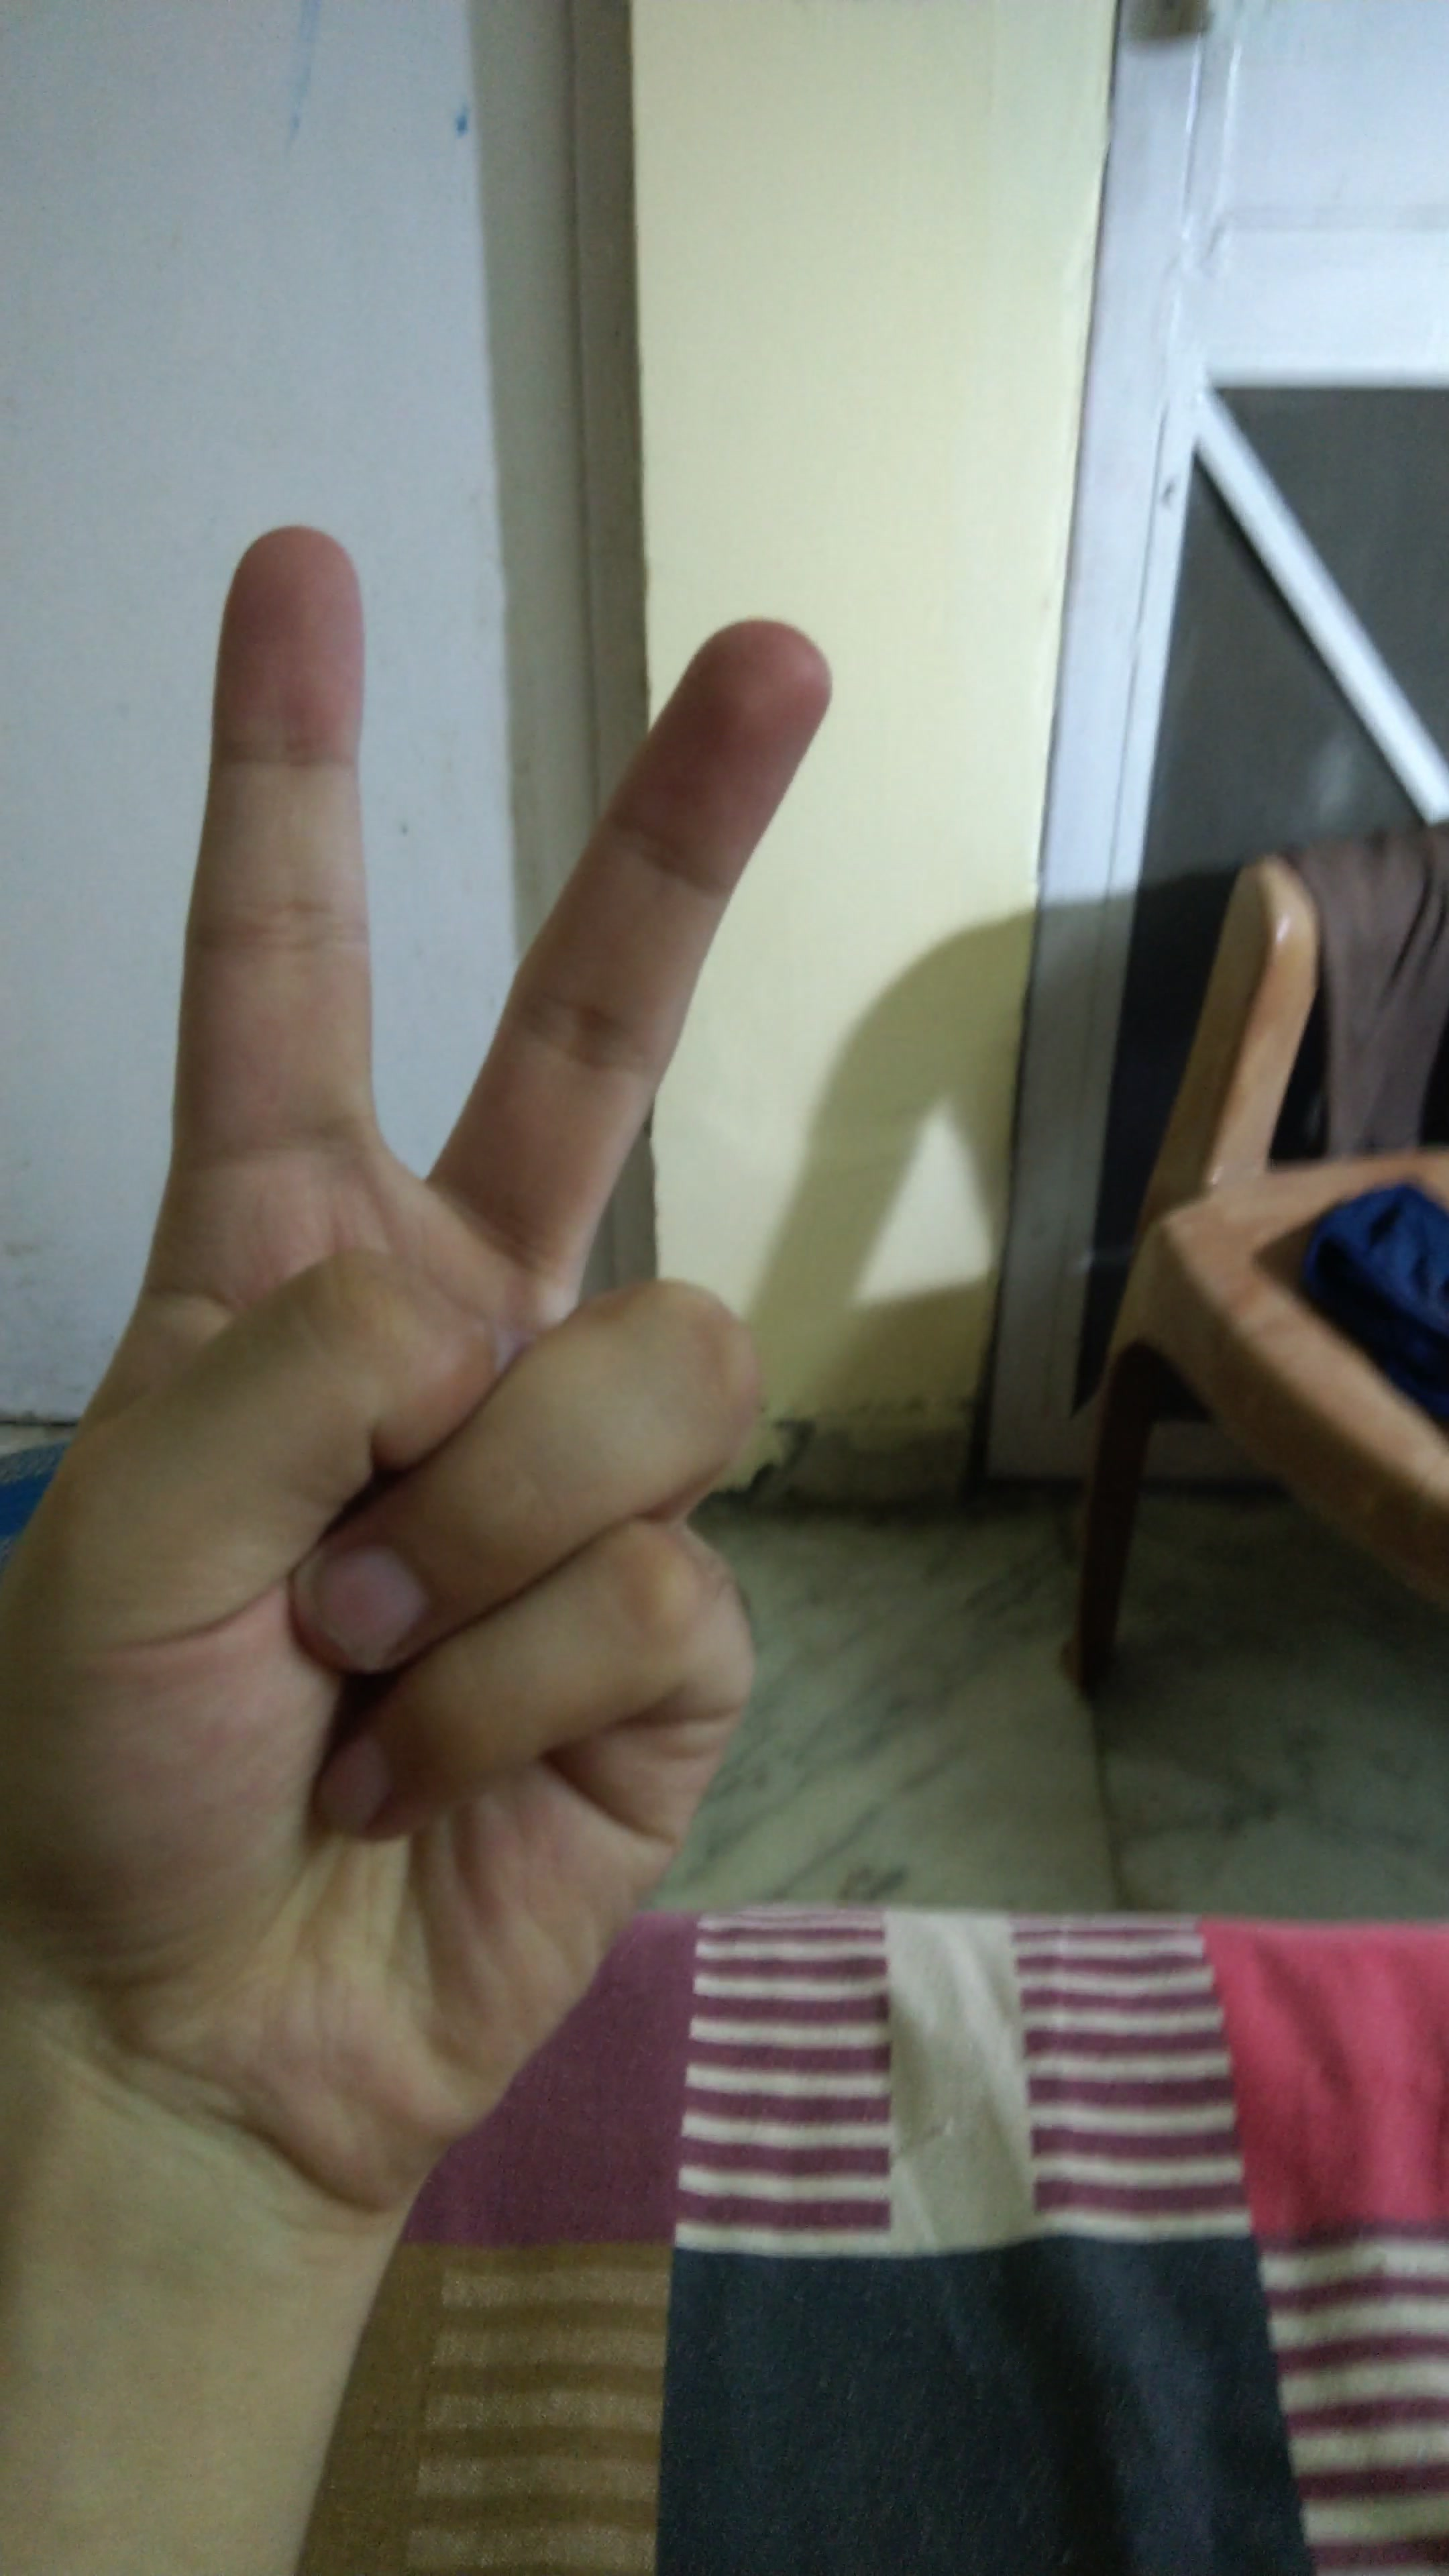hand: (30, 430, 908, 2215)
